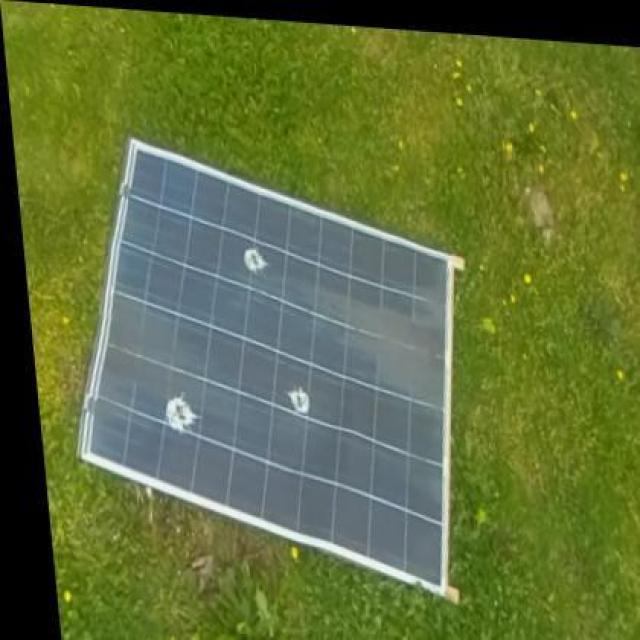soiled: (78, 136, 476, 598)
